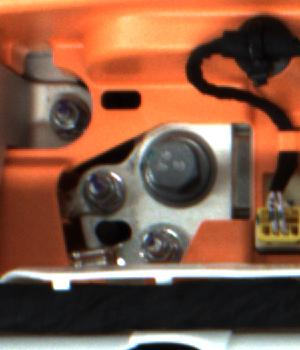screw_s: (74, 171, 130, 212), (141, 227, 186, 268), (49, 97, 88, 137)
